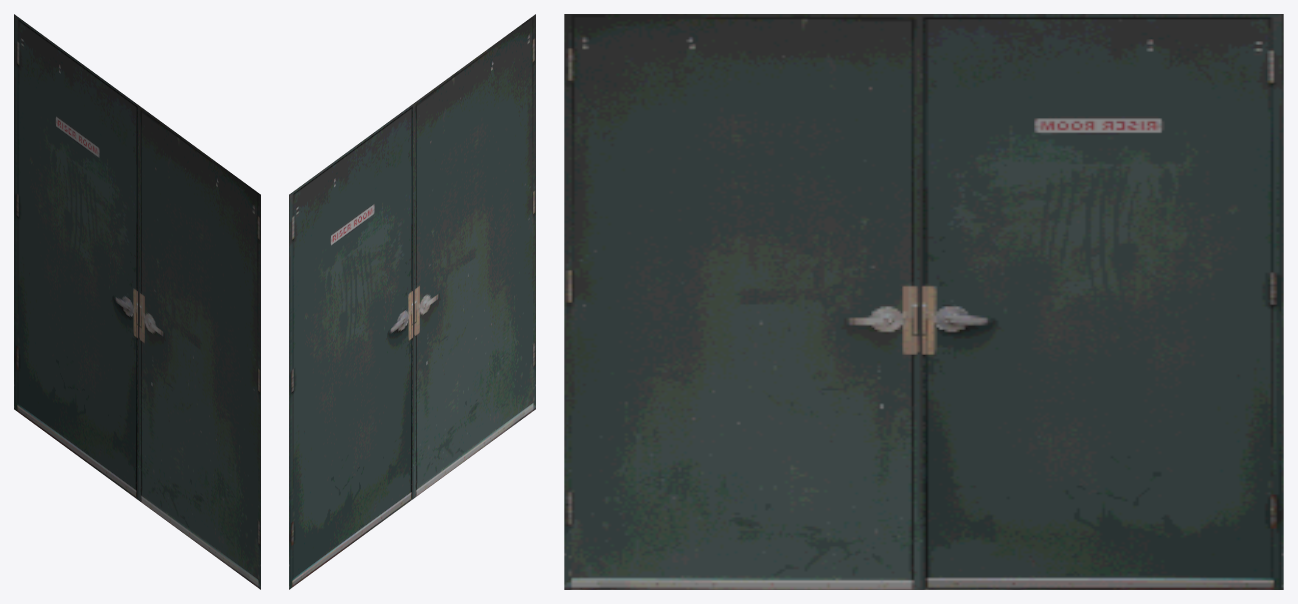
Rendered from door_doorsgreen_dm_0_lev1.glb.
The picture shows the model from 3 angles, left to right: view 1: azimuth 30°, elevation 25°; view 2: azimuth 150°, elevation 25°; view 3: azimuth 270°, elevation 25°; orthographic projection. The views are drawn at different scales.
Parts seen in each view (by area): view 1: door_doorsgreen_dm_0_lev1; view 2: door_doorsgreen_dm_0_lev1; view 3: door_doorsgreen_dm_0_lev1.
Boxes of the visible parts, x1,y1,x2,y2 form: door_doorsgreen_dm_0_lev1: (14,14,260,589); door_doorsgreen_dm_0_lev1: (289,14,535,589); door_doorsgreen_dm_0_lev1: (564,14,1283,589).
Bounding box in the file's own units: 0 × 1.37 × 1.55.
1 material, 1 textured.
